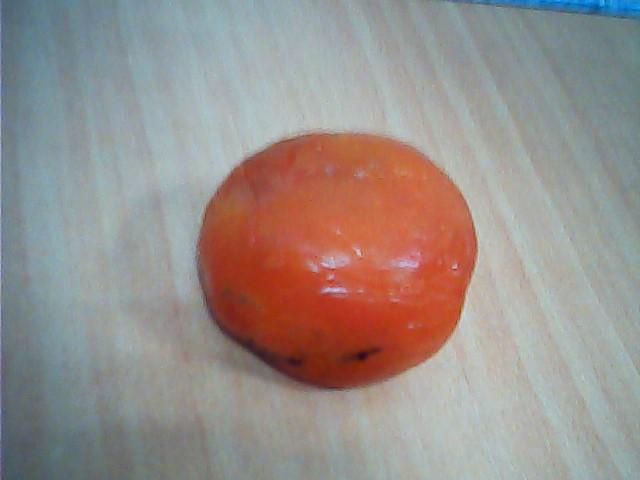defectuoso: (194, 130, 481, 393)
